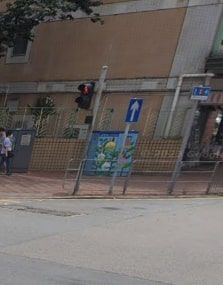One Way Traffic: (123, 98, 142, 125)
